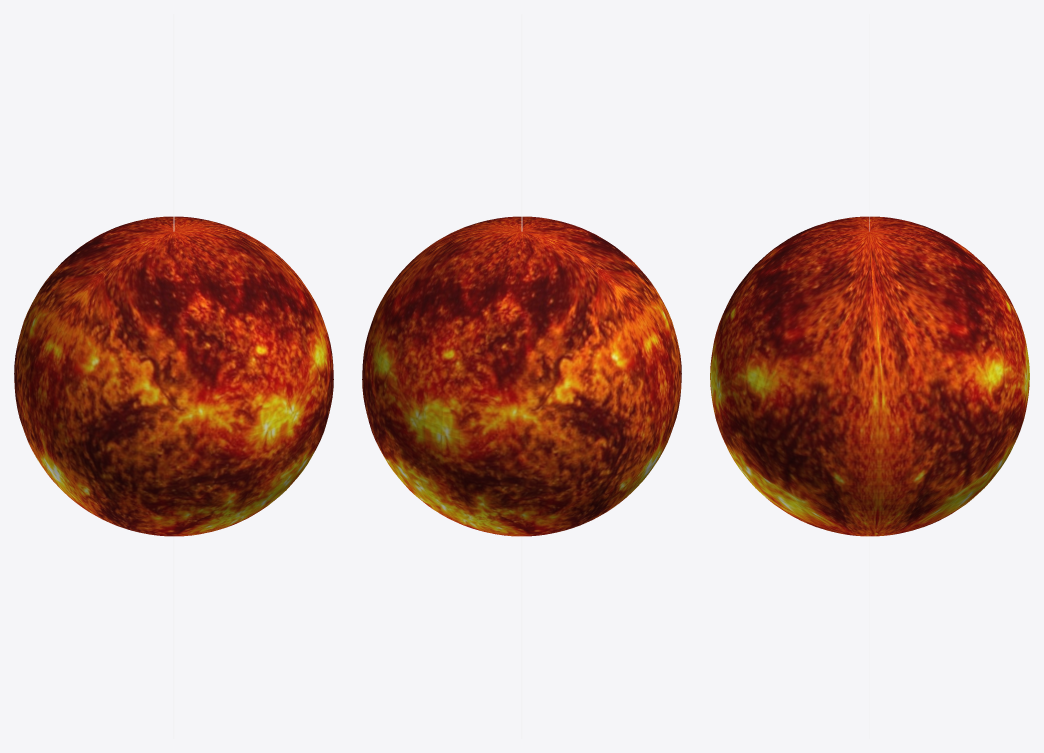
The model's file is sun.glb.
The picture shows the model from 3 angles, left to right: view 1: azimuth 30°, elevation 25°; view 2: azimuth 150°, elevation 25°; view 3: azimuth 270°, elevation 25°; orthographic projection.
Parts seen in each view (by area): view 1: Sphere, Axis_Rod; view 2: Sphere, Axis_Rod; view 3: Sphere.
Part boxes in pixels (x1,y1,x2,y2): Sphere: (14, 216, 333, 536); Axis_Rod: (173, 14, 174, 738); Sphere: (362, 216, 681, 536); Axis_Rod: (521, 14, 522, 738); Sphere: (710, 216, 1029, 536).
Size of the model in its own units: 2 by 5 by 2.
Materials: 2 (1 with a texture image).
